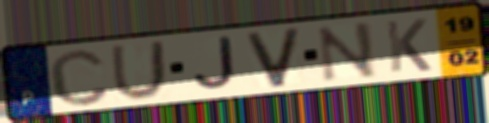C: (45, 46, 112, 108)
J: (190, 34, 240, 93)
K: (382, 17, 434, 75)
N: (315, 20, 380, 84)
U: (108, 39, 168, 102)
V: (243, 25, 303, 90)
